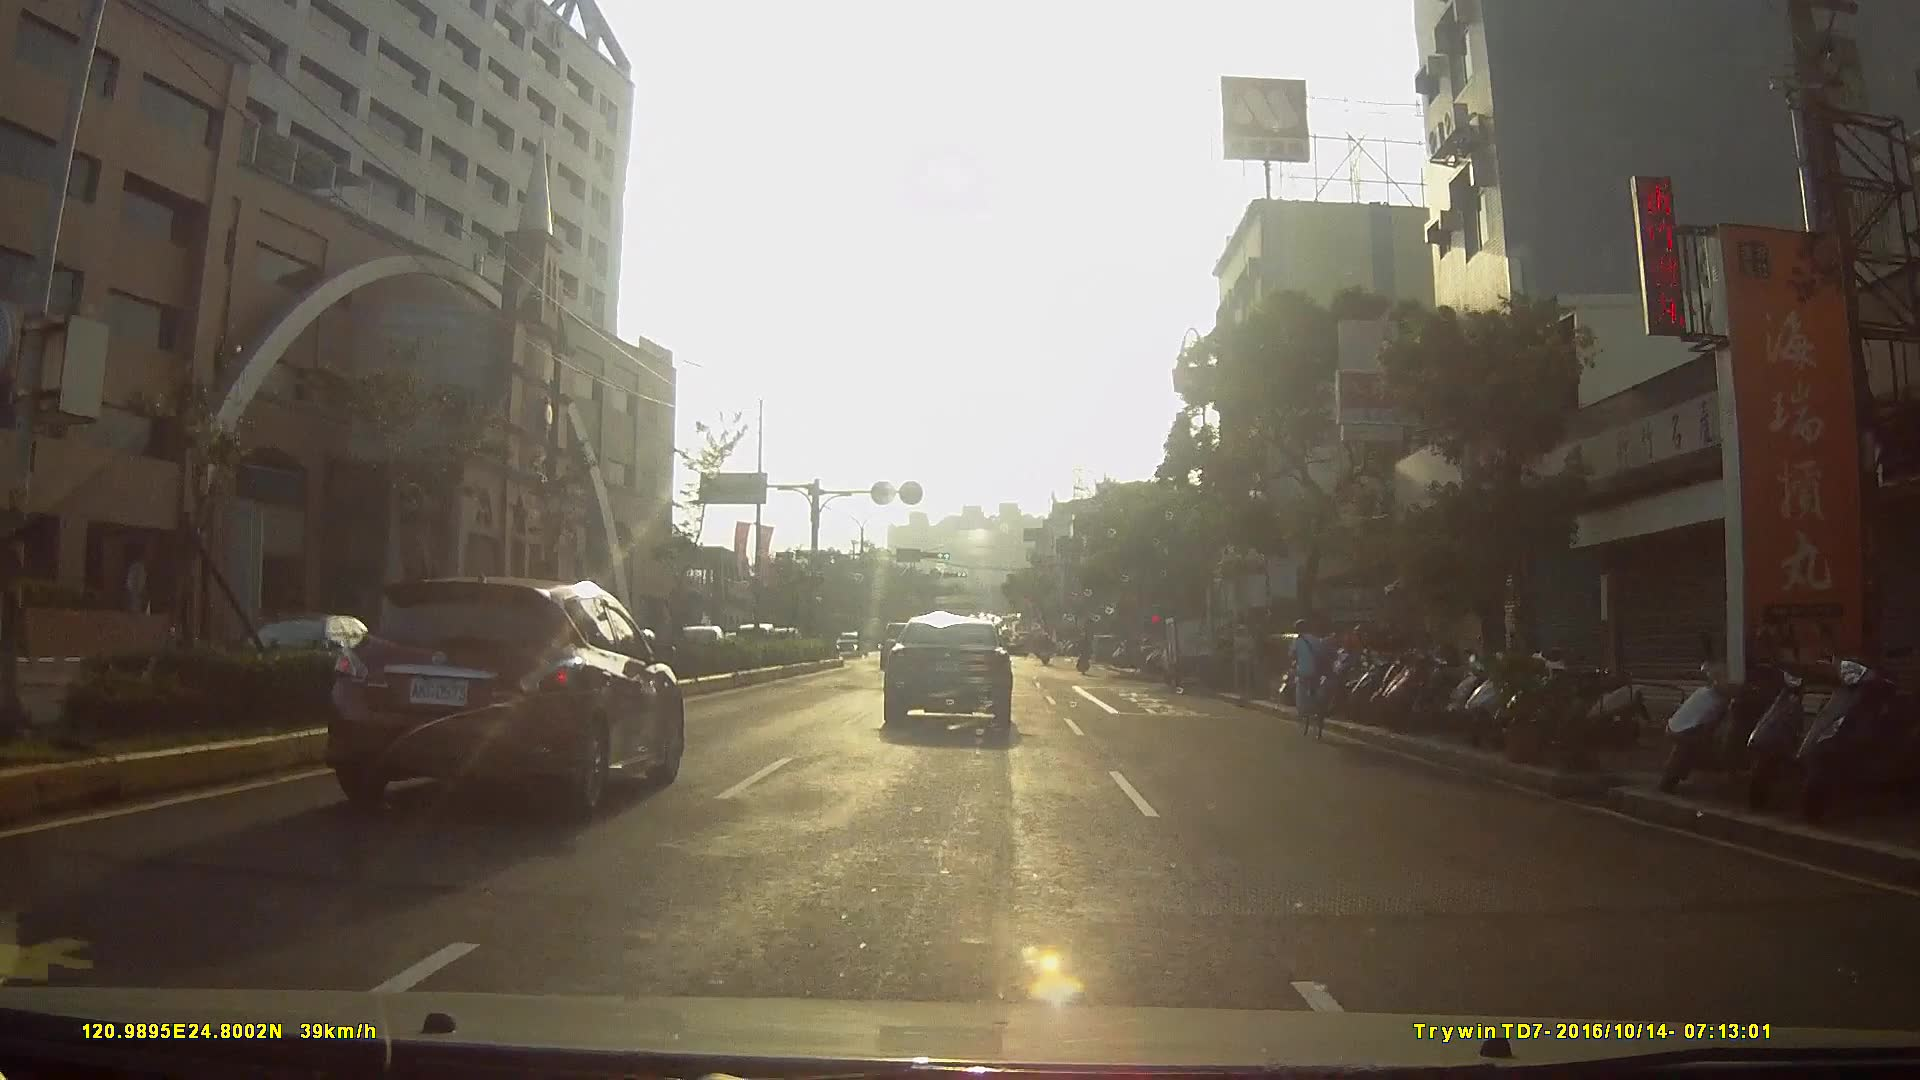rider: (1284, 617, 1337, 741)
vehicle: (322, 568, 697, 818), (877, 611, 1027, 741), (1159, 608, 1237, 688), (763, 607, 822, 662)
